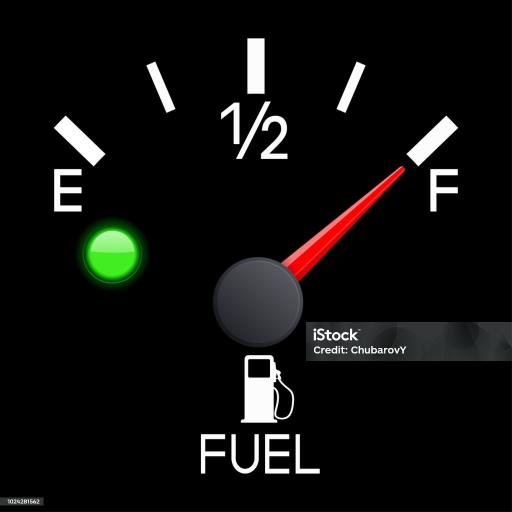empty: (49, 162, 88, 220)
fuel_icon: (231, 351, 299, 426)
full: (426, 165, 468, 215)
guage_area: (40, 30, 478, 434)
needle_center: (212, 252, 312, 352)
needle_tip: (394, 160, 408, 181)
